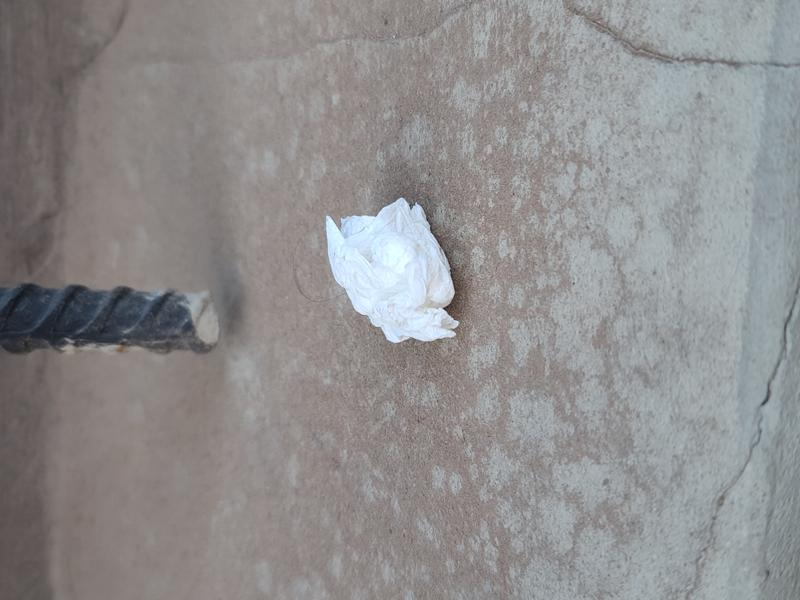papel: (321, 200, 459, 345)
